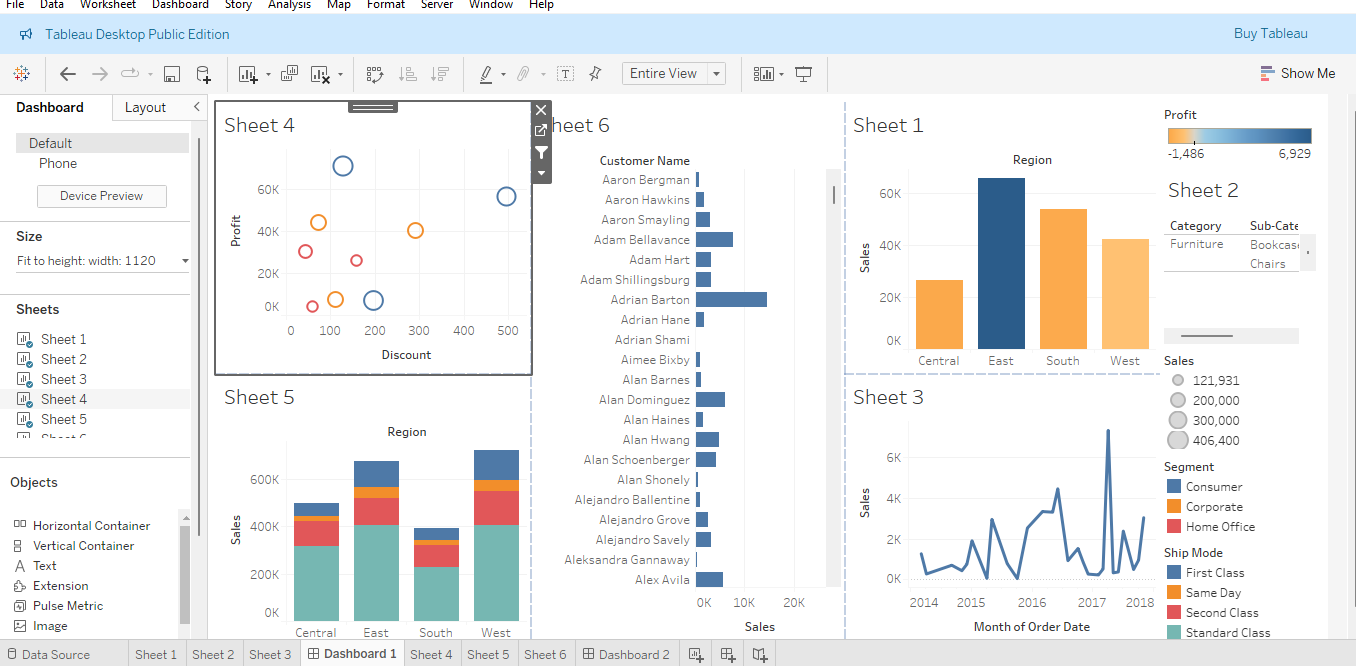

Layout of this report page (visuals, bound fields, positions):
{"tool":"tableau","page":{"name":"Dashboard 1","canvas":[1000,1000],"units":"permille","ordinal":0},"visuals":[{"type":"worksheet","title":"Sheet 4","mark":"Automatic","rows":["Profit"],"cols":["Discount"],"box":[7.1,14.3,280.9,485.7]},{"type":"worksheet","title":"Sheet 6","mark":"Automatic","rows":["Customer Name"],"cols":["Sales"],"box":[288.1,14.3,281,971.4]},{"type":"worksheet","title":"Sheet 1","mark":"Automatic","rows":["Sales"],"cols":["Region"],"box":[569.1,14.3,280.9,485.7]},{"type":"legend","title":"Sheet 1","param":"[federated.1ugbgm0101ao940zra2qz0lotrtb].[sum:Profit:qk]","box":[850,14.3,142.9,116.1]},{"type":"worksheet","title":"Sheet 2","mark":"Automatic","rows":["Category","Sub-Category"],"cols":["Sales"],"box":[850,130.4,142.9,323.2]},{"type":"legend","title":"Sheet 4","param":"[federated.0nput3619gityk1e5sa880g7wnfq].[sum:Sales:qk]","box":[850,453.6,142.9,189.3]},{"type":"worksheet","title":"Sheet 5","mark":"Automatic","rows":["Sales"],"cols":["Region"],"box":[7.1,500,280.9,485.7]},{"type":"worksheet","title":"Sheet 3","mark":"Automatic","rows":["Sales"],"cols":["Order Date"],"box":[569.1,500,280.9,485.7]},{"type":"legend","title":"Sheet 4","param":"[federated.0nput3619gityk1e5sa880g7wnfq].[none:Segment:nk]","box":[850,642.8,142.9,153.6]},{"type":"legend","title":"Sheet 5","param":"[federated.0nput3619gityk1e5sa880g7wnfq].[none:Ship Mode:nk]","box":[850,796.4,142.9,189.3]}]}

Visuals, with their boxes on the dashboard's canvas, which has no fixed pixel size, in thousandths of its width and height (x1, y1, x2, y2). These are canvas units, not pixel positions in the 1356x666 screenshot, which may show the page scaled, cropped or inside an application window:
"Sheet 4" worksheet: x1=7 y1=14 x2=288 y2=500
"Sheet 6" worksheet: x1=288 y1=14 x2=569 y2=986
"Sheet 1" worksheet: x1=569 y1=14 x2=850 y2=500
"Sheet 1" legend: x1=850 y1=14 x2=993 y2=130
"Sheet 2" worksheet: x1=850 y1=130 x2=993 y2=454
"Sheet 4" legend: x1=850 y1=454 x2=993 y2=643
"Sheet 5" worksheet: x1=7 y1=500 x2=288 y2=986
"Sheet 3" worksheet: x1=569 y1=500 x2=850 y2=986
"Sheet 4" legend: x1=850 y1=643 x2=993 y2=796
"Sheet 5" legend: x1=850 y1=796 x2=993 y2=986
